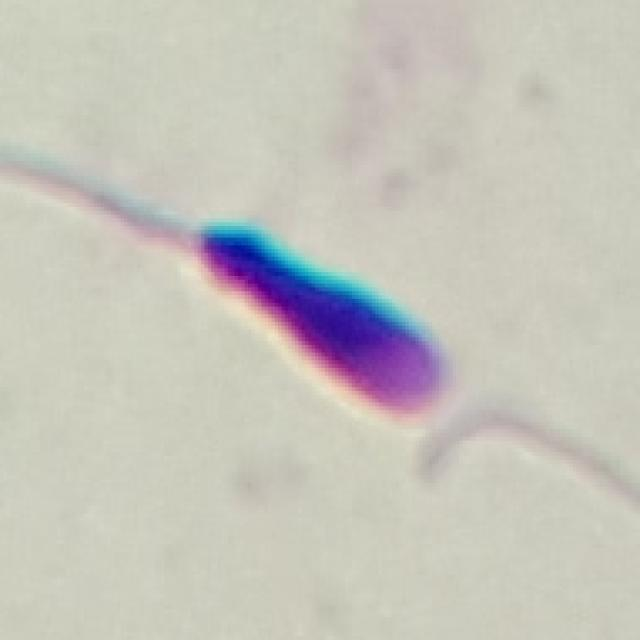abnormal sperm: (80, 119, 488, 449)
